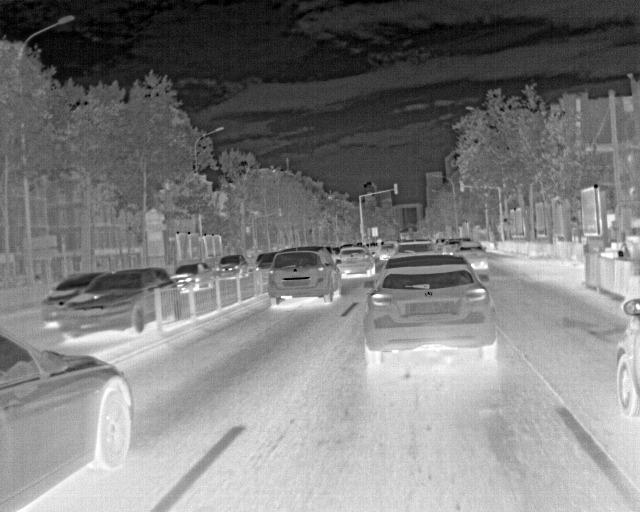car: (0, 326, 134, 511), (363, 252, 497, 366), (57, 267, 182, 339), (268, 246, 343, 305), (40, 272, 110, 327), (613, 286, 639, 418), (452, 241, 490, 282), (169, 263, 216, 294), (335, 246, 376, 279), (253, 251, 278, 294), (215, 255, 249, 280), (395, 239, 435, 254), (443, 239, 464, 254), (379, 244, 397, 260), (254, 253, 266, 271), (433, 238, 446, 252), (384, 240, 399, 251), (369, 242, 377, 250), (340, 244, 354, 248)
light: (460, 181, 464, 192), (394, 184, 398, 194)
sign: (21, 236, 57, 248), (23, 249, 57, 260), (371, 227, 378, 237), (376, 239, 382, 244)
